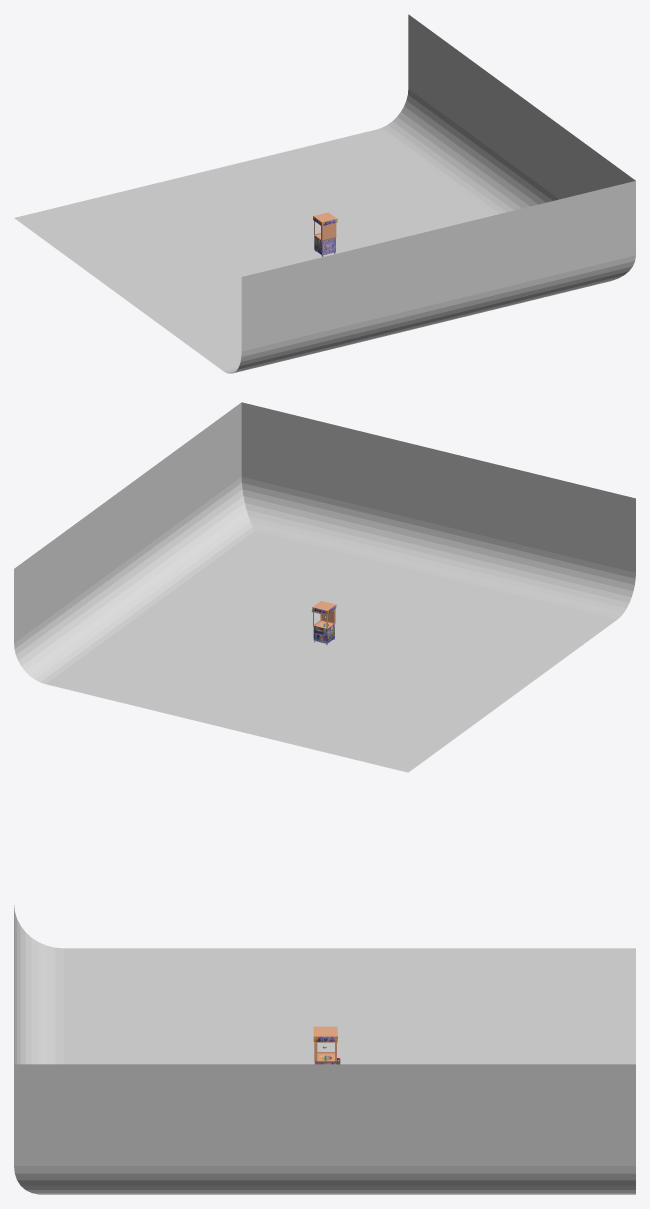
File: Ticketalien.fbx
3 views of the same model, one above another, from view 1: azimuth 30°, elevation 25°; view 2: azimuth 150°, elevation 25°; view 3: azimuth 270°, elevation 25° (orthographic). The views are drawn at different scales.
Visible parts, largest first — view 1: Plane.001, ticketmachine; view 2: Plane.001, ticketmachine; view 3: Plane.001, ticketmachine.
Part boxes in pixels (box(x1,y1,x2,y2)): Plane.001: box(14, 14, 635, 373); ticketmachine: box(313, 212, 337, 255); Plane.001: box(14, 402, 635, 772); ticketmachine: box(312, 601, 336, 643); Plane.001: box(14, 905, 635, 1194); ticketmachine: box(313, 1026, 337, 1064).
Size of the model in its own units: 5766 by 1504 by 5766.
